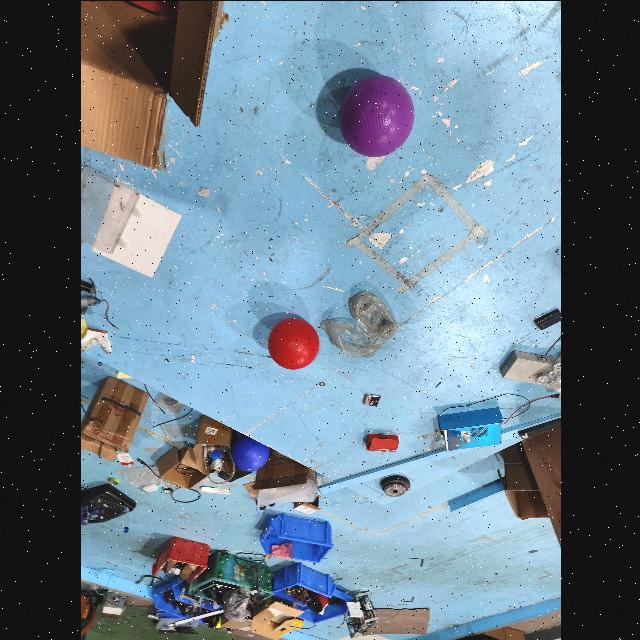B: (231, 431, 269, 472)
P: (336, 74, 416, 158)
R: (266, 316, 320, 370)
